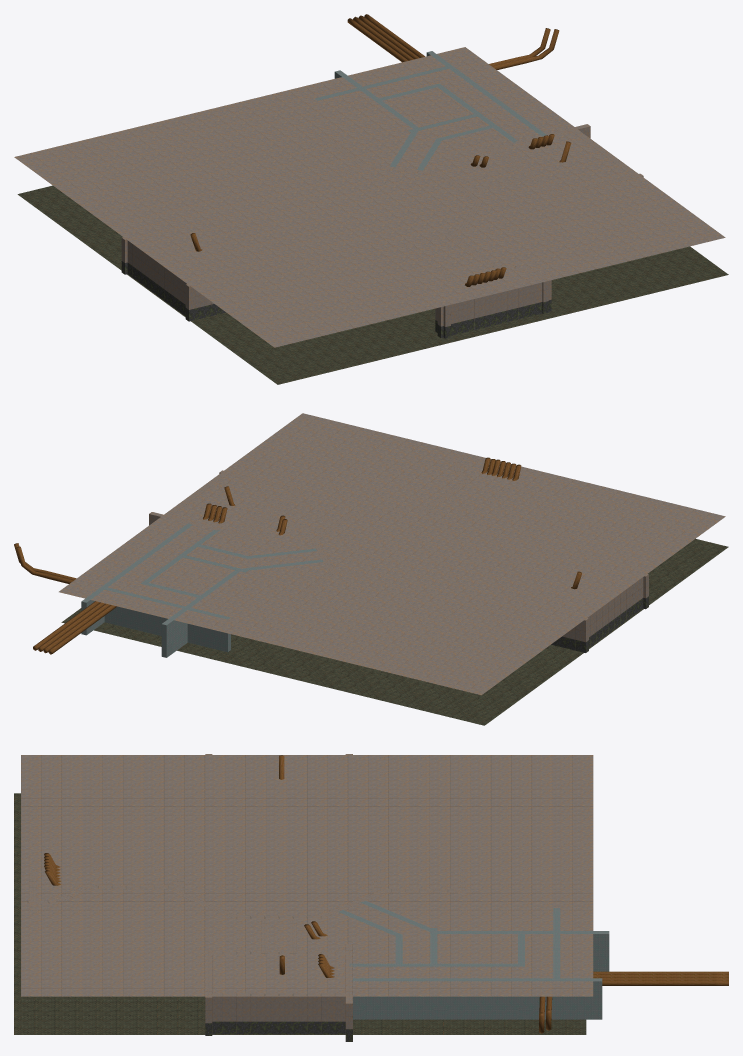
Rendered from map_bunker.gltf.
3 views of the same model, one above another, from view 1: azimuth 30°, elevation 25°; view 2: azimuth 150°, elevation 25°; view 3: azimuth 270°, elevation 25° (orthographic). The views are drawn at different scales.
Parts seen in each view (by area): view 1: Cealing, Floor, Wall.025, Wall.015, Wall.018, Wall.023; view 2: Cealing, Floor, Wall.015, Wall.033, Wall.037, Wall.027, Wall.019, Tuberia.010; view 3: Cealing, Floor, Wall.013, Wall.028, Wall.032, Wall.030, Wall.027, Tuberia.007, Wall.016, Wall.017, Wall.023, Tuberia.010 (+3 smaller).
Boxes of the visible parts, x1,y1,x2,y2 form: Cealing: (14,47,725,347); Floor: (17,185,728,384); Wall.025: (437,274,551,338); Wall.015: (127,240,186,316); Wall.018: (185,284,225,321); Wall.023: (448,235,548,313); Cealing: (59,413,725,695); Floor: (61,538,728,725); Wall.015: (588,577,643,647); Wall.033: (103,587,167,635); Wall.037: (165,602,230,652); Wall.027: (161,597,201,657); Wall.019: (551,618,588,652); Tuberia.010: (48,507,227,654); Cealing: (21,755,593,996); Floor: (14,793,586,1034); Wall.013: (208,993,349,1034); Wall.028: (433,978,517,1019); Wall.032: (518,978,602,1019); Wall.030: (352,978,433,1019); Wall.027: (525,931,609,971); Tuberia.007: (318,963,728,985); Wall.016: (345,944,352,1041); Wall.017: (205,950,212,1035); Wall.023: (27,885,182,903); Tuberia.010: (318,954,728,974).
Size of what is drawn, in the model's own units: 94.42 by 9.14 by 102.
Materials: 6 (6 with a texture image).
